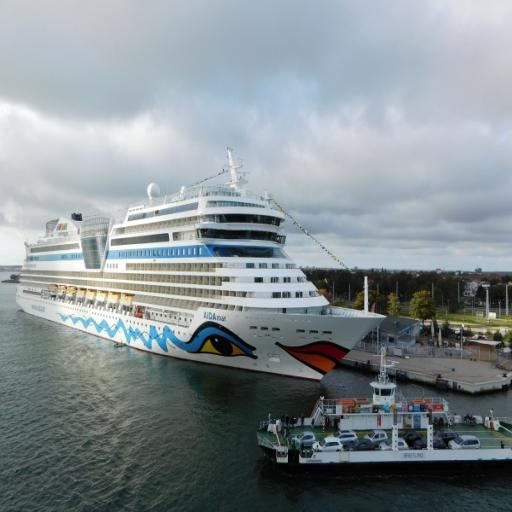cruises: (15, 151, 387, 392)
